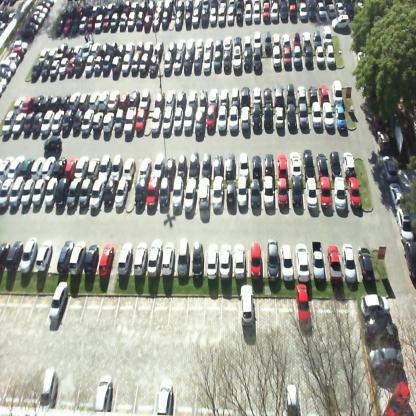car: (362, 316, 398, 346), (368, 346, 404, 374), (381, 380, 409, 416), (39, 364, 60, 406), (48, 280, 68, 322), (358, 243, 376, 286), (396, 206, 416, 244), (94, 376, 115, 412), (239, 281, 255, 328), (359, 294, 390, 318), (266, 235, 281, 282), (68, 240, 88, 275), (19, 238, 38, 274), (295, 283, 311, 324), (327, 243, 343, 284), (57, 239, 75, 274), (312, 240, 326, 284), (281, 240, 295, 283), (343, 242, 357, 284), (156, 382, 174, 414), (90, 176, 108, 208), (66, 176, 84, 208), (117, 241, 133, 276), (6, 240, 24, 271), (36, 241, 53, 273), (148, 240, 164, 274), (403, 241, 416, 282), (284, 382, 300, 415), (84, 243, 100, 276), (9, 174, 25, 207), (347, 175, 362, 210), (0, 175, 15, 210), (206, 241, 219, 281), (233, 241, 246, 281), (296, 241, 309, 281), (334, 175, 348, 212), (99, 243, 114, 277), (134, 241, 148, 276), (146, 173, 160, 208), (219, 241, 232, 278), (178, 239, 190, 279), (250, 242, 262, 282), (134, 175, 149, 207), (103, 176, 119, 206), (20, 175, 35, 207), (40, 152, 57, 180), (0, 110, 18, 136), (115, 176, 129, 209), (78, 174, 92, 207), (172, 173, 184, 211), (192, 240, 203, 281), (185, 176, 197, 213), (305, 176, 318, 210), (45, 177, 59, 208), (389, 182, 405, 209), (291, 174, 303, 210), (162, 241, 175, 274), (289, 149, 303, 179), (56, 177, 70, 207), (32, 178, 46, 208), (375, 128, 391, 154), (263, 176, 275, 210), (212, 175, 224, 209), (198, 176, 210, 210), (159, 175, 171, 209), (81, 107, 95, 136), (303, 148, 316, 179), (124, 104, 137, 135), (162, 103, 174, 136), (6, 156, 23, 179), (382, 154, 397, 180), (315, 151, 330, 177), (277, 177, 290, 207), (52, 152, 67, 178), (194, 106, 207, 136), (0, 155, 16, 179), (40, 111, 55, 136), (330, 148, 342, 179), (276, 152, 289, 180), (98, 154, 112, 180), (297, 102, 310, 130), (61, 109, 75, 135), (72, 108, 86, 134), (31, 154, 46, 178), (335, 104, 347, 134), (250, 179, 262, 208), (205, 103, 217, 132), (323, 100, 334, 131), (238, 175, 248, 209), (343, 150, 356, 176), (0, 240, 12, 268), (332, 77, 343, 107), (311, 99, 322, 129), (153, 152, 166, 177), (92, 107, 105, 132), (123, 157, 137, 180), (12, 111, 26, 134), (190, 148, 200, 180), (226, 178, 237, 207), (151, 107, 162, 136), (52, 108, 64, 134), (64, 156, 78, 178), (286, 102, 297, 130), (252, 104, 263, 132), (115, 106, 126, 134), (332, 14, 350, 31), (44, 136, 63, 152), (264, 101, 274, 131), (32, 111, 44, 136), (232, 44, 242, 74), (75, 53, 87, 78), (29, 60, 43, 81), (111, 154, 123, 178), (103, 109, 115, 133), (138, 52, 150, 76), (164, 156, 177, 178), (139, 156, 152, 178), (136, 107, 147, 133), (20, 157, 35, 176), (86, 158, 100, 178), (228, 105, 238, 133), (174, 105, 184, 133), (68, 91, 82, 111), (131, 48, 141, 76), (213, 152, 224, 177), (85, 53, 96, 78), (318, 82, 331, 103), (21, 92, 34, 113), (81, 38, 94, 59), (202, 151, 212, 178), (240, 104, 250, 131), (218, 106, 228, 133), (184, 106, 194, 133), (74, 158, 88, 177), (48, 60, 62, 79), (177, 154, 188, 178), (314, 44, 326, 66), (66, 54, 77, 78), (226, 152, 236, 178), (107, 90, 120, 110), (304, 43, 314, 69), (264, 152, 275, 175), (274, 105, 284, 130), (325, 44, 335, 69), (243, 47, 253, 72), (89, 90, 102, 109), (282, 43, 291, 70), (188, 88, 199, 110), (140, 87, 151, 109), (99, 89, 110, 111), (213, 50, 223, 74), (184, 50, 194, 74), (252, 153, 261, 179), (293, 44, 302, 70), (173, 53, 184, 74), (149, 53, 160, 74), (24, 111, 34, 134), (13, 95, 25, 114), (239, 151, 248, 176), (272, 44, 281, 69), (193, 50, 202, 75), (1, 59, 17, 73), (286, 81, 296, 103), (274, 82, 284, 104), (241, 83, 251, 105), (60, 91, 71, 111), (322, 25, 333, 45), (121, 52, 132, 72), (102, 53, 113, 73), (94, 52, 104, 74), (308, 0, 318, 22), (128, 88, 140, 106), (40, 92, 52, 110), (254, 46, 262, 73), (56, 42, 68, 60), (208, 86, 218, 107), (59, 57, 69, 78), (299, 1, 309, 22), (119, 90, 130, 109), (41, 60, 52, 79), (54, 17, 65, 36), (224, 48, 232, 74), (203, 52, 212, 75), (263, 1, 272, 24), (280, 1, 289, 24), (50, 94, 62, 111), (264, 29, 272, 54), (135, 11, 145, 31), (162, 10, 172, 30), (93, 14, 104, 32), (173, 9, 182, 31), (124, 40, 137, 55), (79, 92, 91, 108), (164, 51, 172, 75), (23, 26, 35, 42), (297, 84, 307, 103), (198, 88, 208, 107), (177, 88, 187, 107), (112, 55, 122, 74), (78, 15, 87, 36), (110, 12, 119, 33), (192, 7, 201, 28), (33, 95, 44, 112), (244, 2, 252, 25), (220, 86, 229, 106), (166, 90, 176, 108), (312, 29, 322, 47), (253, 30, 262, 50), (0, 67, 12, 82), (318, 0, 327, 20), (254, 85, 262, 107), (154, 92, 165, 108), (12, 40, 28, 51), (201, 7, 209, 29), (210, 4, 218, 26), (290, 0, 298, 22), (230, 86, 239, 105), (144, 12, 153, 31), (302, 29, 312, 46), (204, 36, 214, 53), (176, 39, 186, 56), (154, 40, 164, 57), (98, 41, 110, 55), (10, 46, 24, 58), (102, 13, 110, 34), (29, 14, 44, 25), (70, 16, 79, 34), (127, 12, 136, 30), (219, 3, 226, 26), (108, 40, 118, 56), (64, 16, 72, 36), (152, 12, 160, 32), (227, 5, 235, 25), (272, 2, 280, 22), (143, 39, 154, 53), (72, 44, 83, 58), (292, 30, 301, 47), (195, 36, 204, 53), (309, 82, 317, 101), (119, 12, 127, 31), (346, 0, 354, 19), (167, 40, 177, 55), (48, 45, 58, 60), (236, 5, 243, 26), (264, 84, 272, 102), (224, 35, 232, 53), (187, 36, 195, 54), (90, 42, 102, 54), (6, 54, 22, 63), (39, 49, 50, 62), (116, 42, 126, 56), (64, 44, 74, 58), (25, 21, 39, 31), (185, 7, 191, 30), (214, 36, 223, 51), (254, 1, 260, 23), (272, 31, 282, 44), (36, 4, 49, 14), (243, 34, 252, 48), (336, 0, 345, 14), (104, 2, 115, 13), (39, 0, 51, 10), (327, 1, 335, 16), (66, 4, 76, 16), (135, 38, 144, 51), (87, 16, 94, 32), (74, 6, 84, 17), (91, 3, 101, 14), (283, 31, 290, 46), (82, 4, 92, 14), (138, 0, 147, 11), (234, 32, 242, 44), (34, 10, 46, 18), (115, 0, 123, 12), (123, 0, 130, 13), (156, 0, 164, 11), (147, 0, 154, 12), (164, 0, 173, 9), (130, 2, 138, 12), (202, 0, 210, 10), (186, 0, 194, 9), (100, 4, 107, 13), (177, 0, 184, 8), (194, 0, 201, 8)
